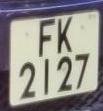1: (40, 54, 55, 99)
2: (15, 56, 41, 105), (54, 50, 76, 96)
7: (73, 50, 92, 91)
F: (35, 17, 58, 60)
K: (56, 14, 75, 58)
